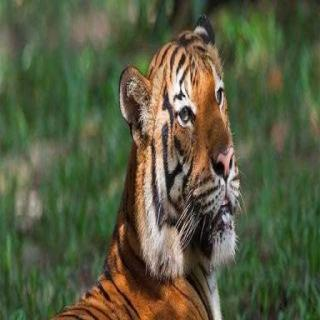Tiger: (87, 23, 264, 320)
